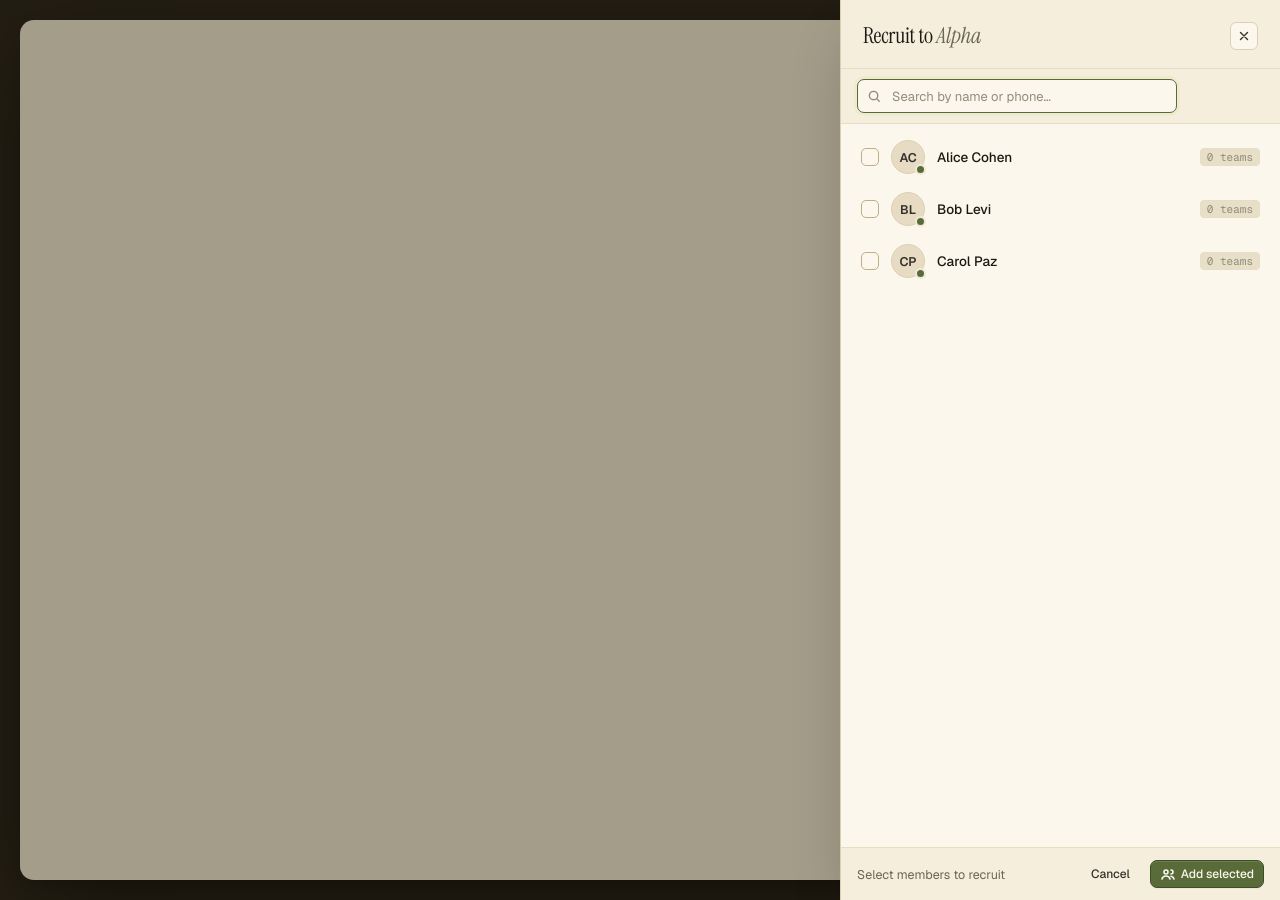
CrossTeamRecruitDrawer › clear-search button resets the query and restores the full list
Type "alice" into the field with placeholder "Search by name or phone…" at (1017, 96), box [857,79,1177,113]
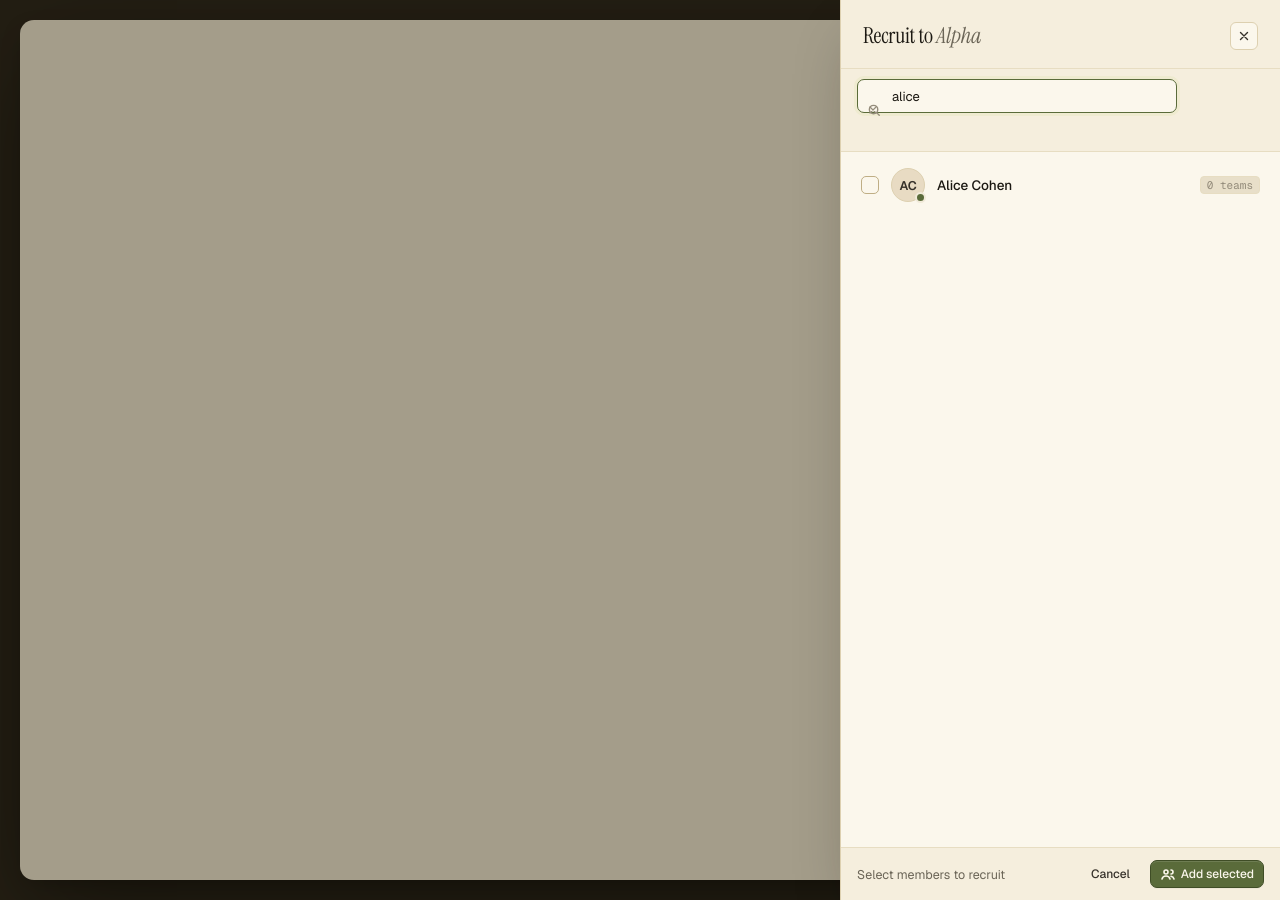
expect the button "Bob Levi" is gone: met
Click the button named "Clear search" at (871, 127), box [857,113,885,141]
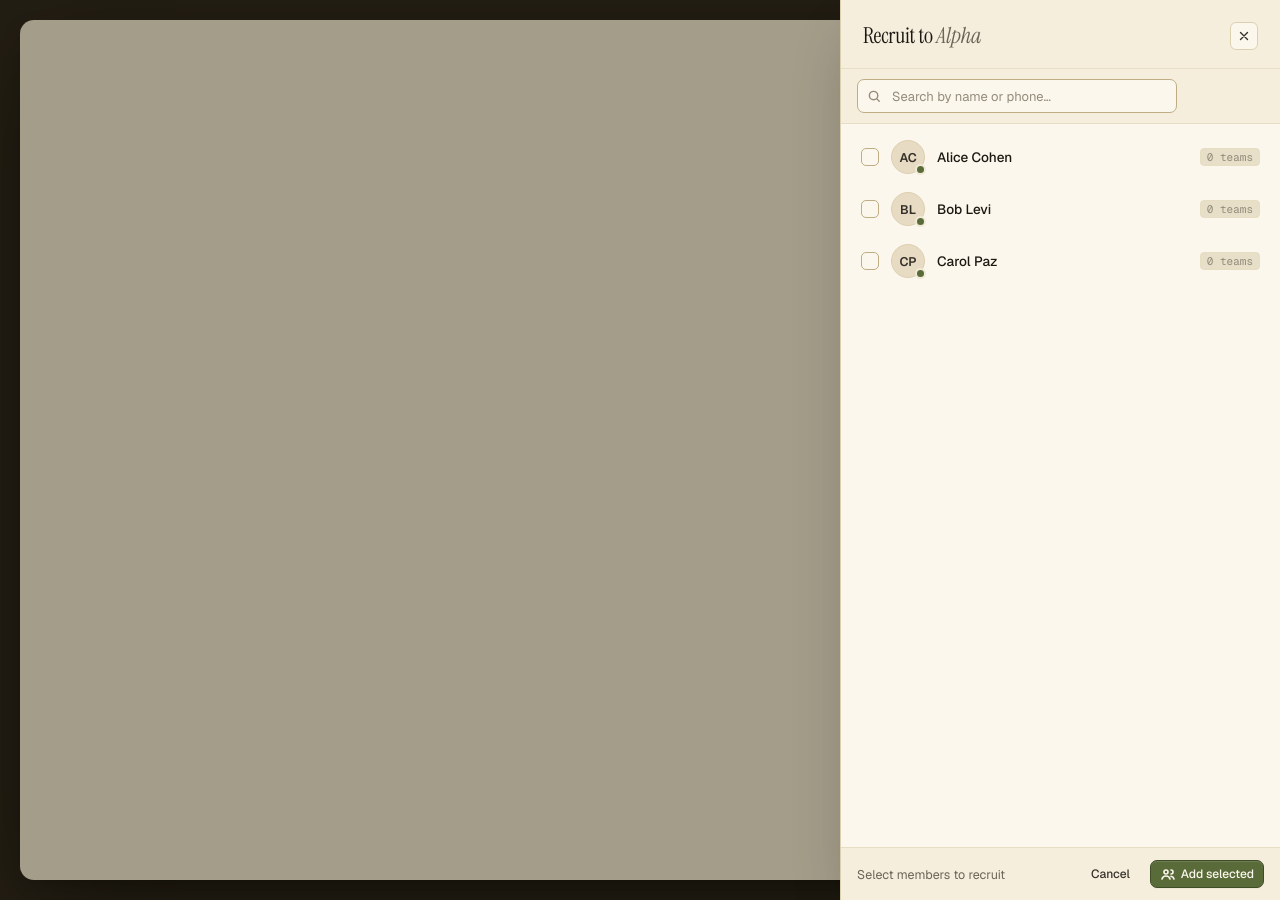
expect the field with placeholder "Search by name or phone…" is empty: met, box [857,79,1177,113]
expect the text "Bob Levi" is shown: met, box [937,200,991,218]
